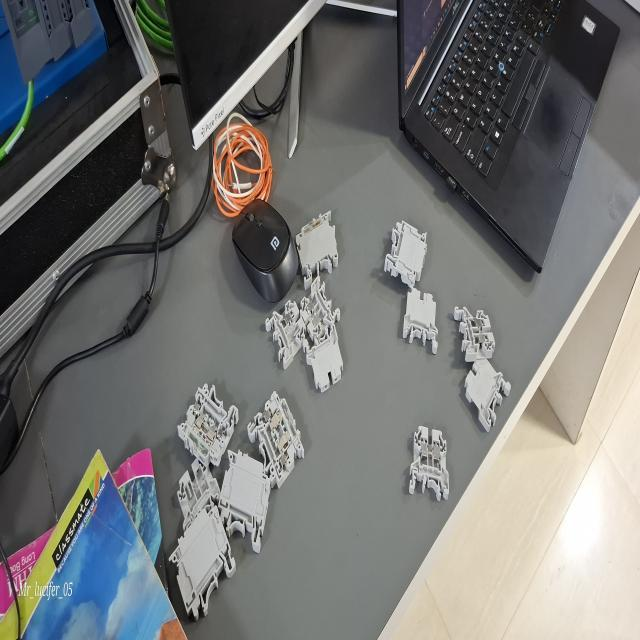Inverted: (460, 354, 512, 436), (396, 287, 448, 358), (303, 314, 345, 399)
Pass: (401, 422, 454, 504), (296, 270, 342, 342), (452, 301, 498, 365)
Reject: (264, 293, 308, 373)
